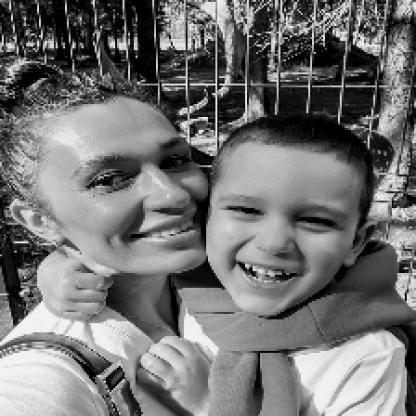child: (137, 116, 416, 415)
